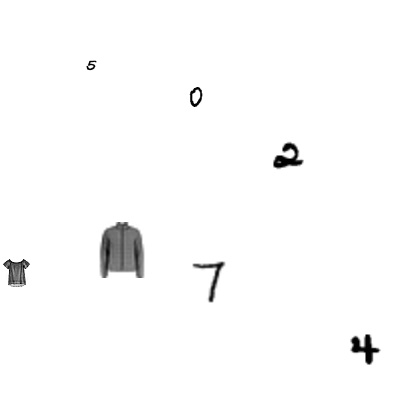1: (302, 101, 330, 129)
8: (302, 157, 330, 185)
Ankle_boot: (57, 46, 113, 102), (196, 13, 224, 41)
Sandal: (119, 312, 147, 340), (94, 214, 122, 242)
Trouser: (205, 381, 227, 403)
